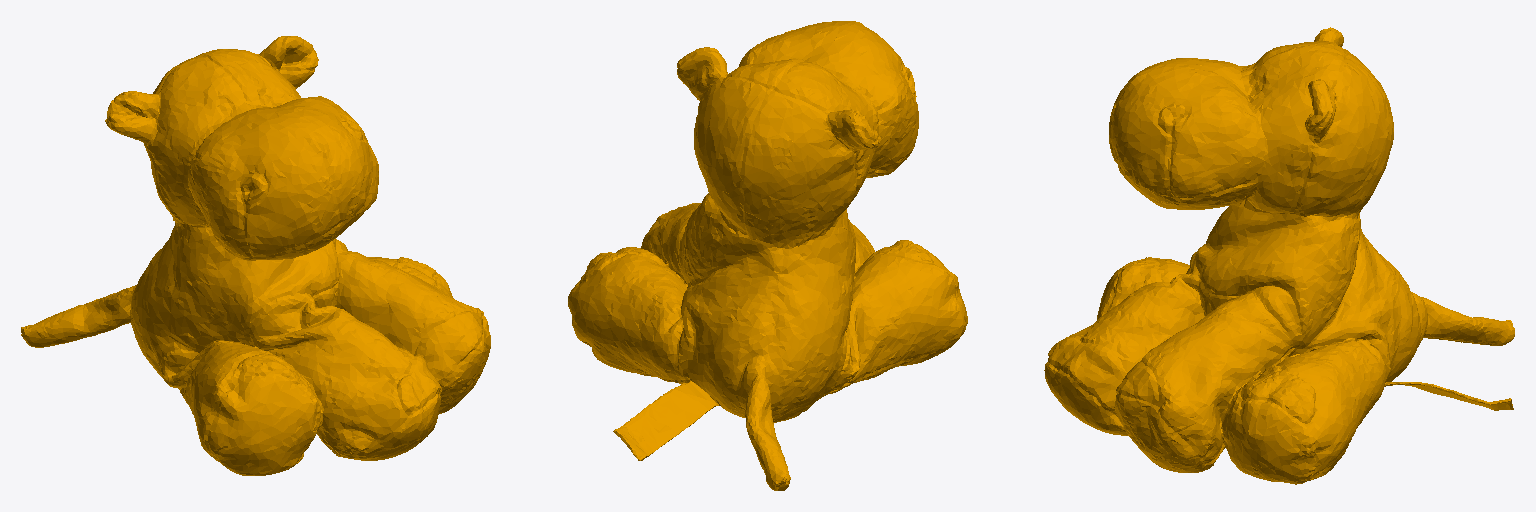
The robot description file, URDF, robot "289li1wu":
<?xml version='1.0'?>

<robot name="289li1wu">
    <static>false</static>
    <link name="link">
        <inertial>
            <mass value="0.1639725253440341"/>
            <inertia ixx="0.00021508248887793007" ixy="5.223246405579765e-06" ixz="3.0828131376519564e-05"
                     iyy="0.00020737477677889" iyz="-8.669399122760996e-06" izz="0.00014603569592504432"/>
        </inertial>
        <collision name="collision">
            <geometry>
                <mesh filename="package://miscnet/train/289li1wu/collision_model_vhacd.obj"/>
            </geometry>
        </collision>
        <visual name="visual">
            <geometry>
                <mesh filename="package://miscnet/train/289li1wu/visual_model.obj"/>
            </geometry>
        </visual>
    </link>
</robot>

--- What the picture shows (computed from the rendered views, not written in the file) ---
3 views of the same robot in one strip: view 1: azimuth 30°, elevation 25°; view 2: azimuth 150°, elevation 25°; view 3: azimuth 270°, elevation 25° (orthographic).
Robot: 289li1wu — 1 links, 0 joints (none); root link link; default pose: all joints at 0.
Visible links, largest first — view 1: link; view 2: link; view 3: link.
Link boxes in pixels (box(x1,y1,x2,y2)): link: box(21, 36, 490, 475); link: box(568, 21, 967, 490); link: box(1044, 27, 1514, 484).
Size in the robot's own frame: 0.1019 by 0.1279 by 0.1029 metres.
Meshes: 1 distinct files referenced, 1 mesh visuals loaded (1 OBJ).
